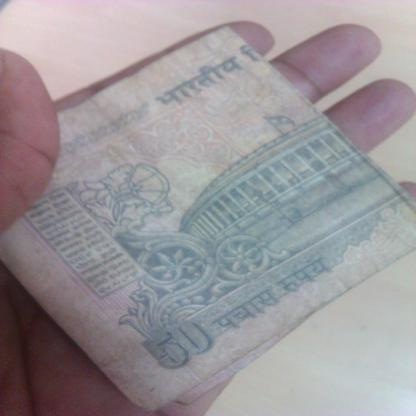Old50Back: (0, 25, 416, 416)
